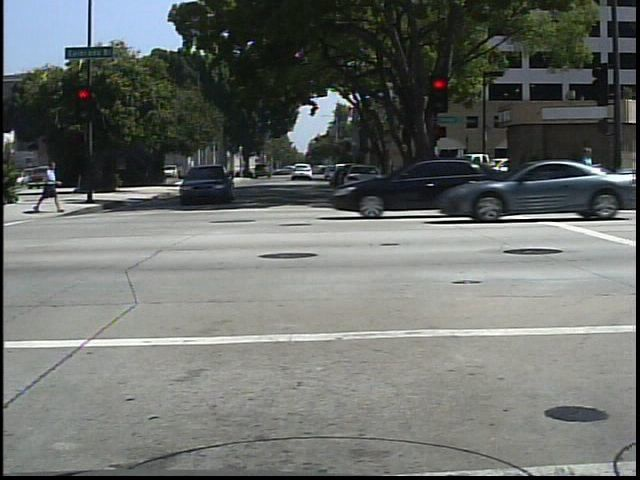person: (573, 143, 605, 209), (37, 157, 60, 217)
